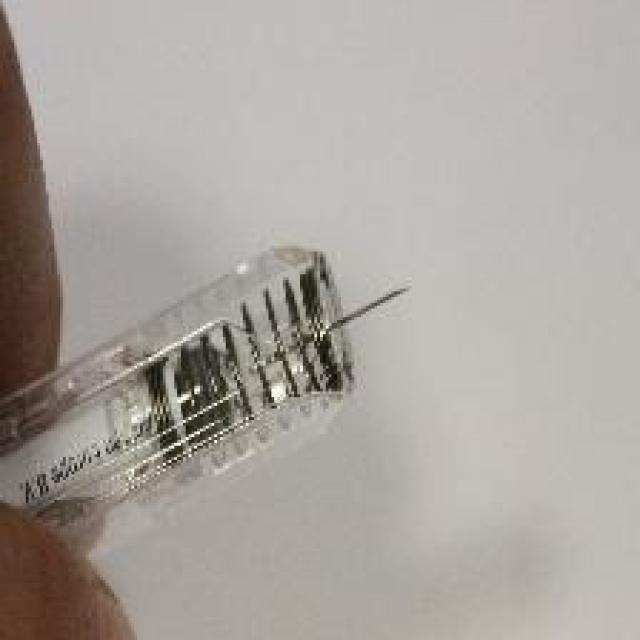syringe: (0, 242, 448, 560)
